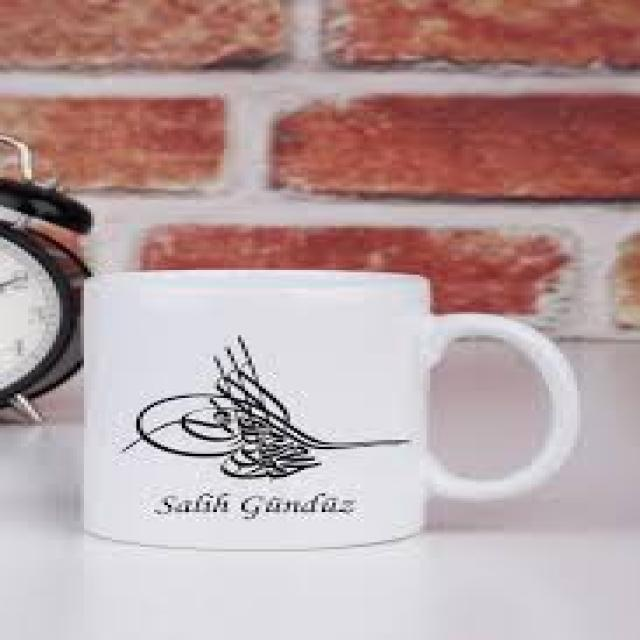taza: (83, 269, 581, 552)
